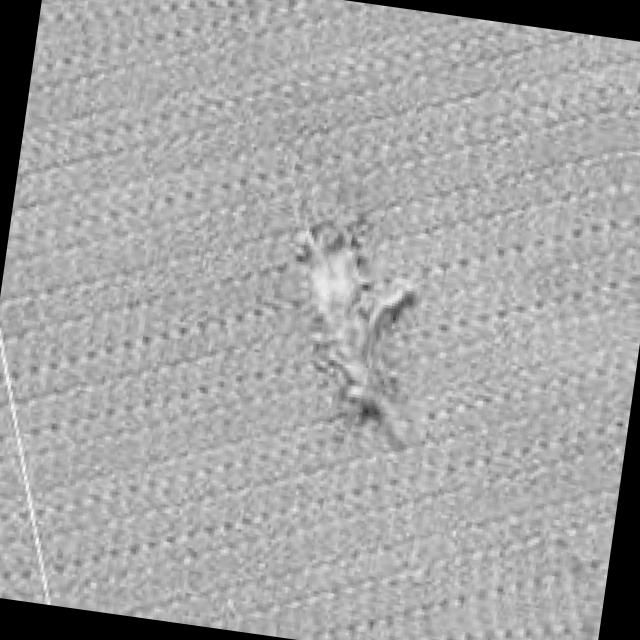cut: (276, 208, 426, 430)
